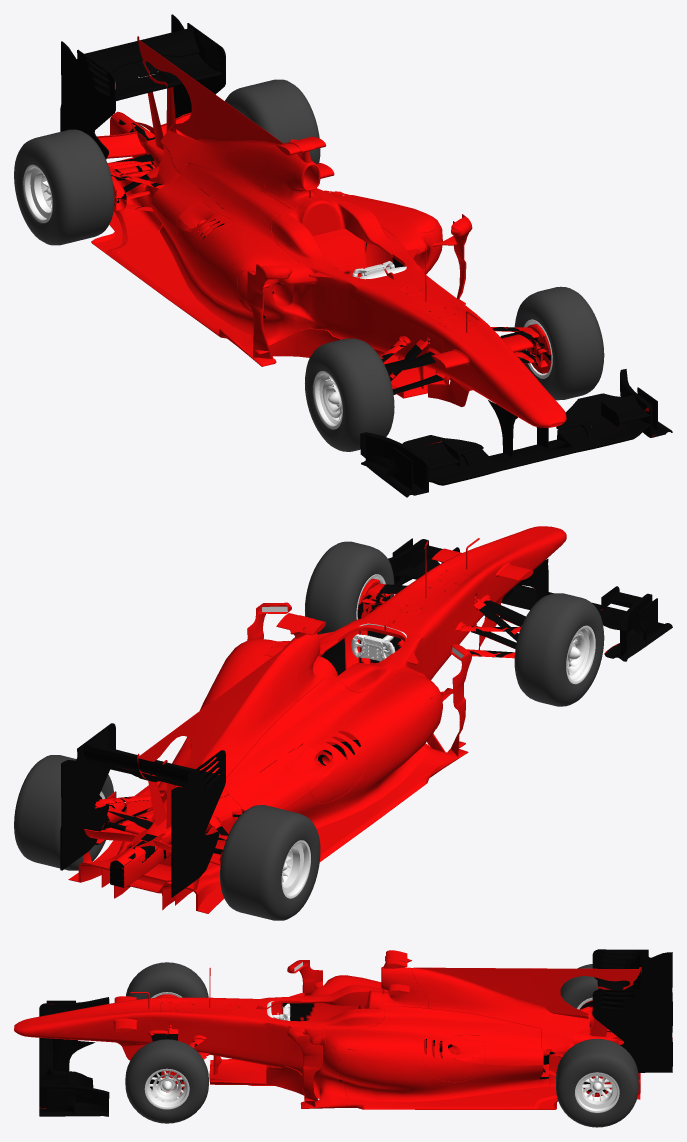
The model's file is ferrari-f1-race-car.fbx.
3 views of the same model, one above another, from view 1: azimuth 30°, elevation 25°; view 2: azimuth 150°, elevation 25°; view 3: azimuth 270°, elevation 25° (orthographic). The views are drawn at different scales.
Visible parts, largest first — view 1: Body, Front_Bumper, Back_Bumper, Treads, Treads.001, Wheel_Plates.001, Generic, Treads.002, Internal; view 2: Body, Back_Bumper, Treads, Treads.001, Front_Bumper, Generic, Wheel_Plates.001, Treads.002, Internal, Steering; view 3: Body, Back_Bumper, Treads.002, Wheel_Plates.001, Front_Bumper, Treads.001, Internal, Generic, Treads.
Part boxes in pixels (left/top/right/bottom): Body: left=91, top=36, right=566, bottom=427; Front_Bumper: left=360, top=369, right=672, bottom=497; Back_Bumper: left=60, top=14, right=225, bottom=159; Treads: left=14, top=129, right=114, bottom=245; Treads.001: left=305, top=338, right=394, bottom=451; Wheel_Plates.001: left=514, top=286, right=604, bottom=400; Generic: left=107, top=154, right=551, bottom=394; Treads.002: left=225, top=79, right=320, bottom=163; Internal: left=110, top=111, right=449, bottom=377; Body: left=68, top=526, right=566, bottom=913; Back_Bumper: left=60, top=723, right=225, bottom=897; Treads: left=220, top=805, right=320, bottom=920; Treads.001: left=514, top=593, right=604, bottom=706; Front_Bumper: left=388, top=538, right=672, bottom=661; Generic: left=94, top=578, right=525, bottom=887; Wheel_Plates.001: left=305, top=541, right=394, bottom=634; Treads.002: left=14, top=755, right=113, bottom=870; Internal: left=110, top=615, right=484, bottom=887; Steering: left=351, top=634, right=395, bottom=661; Body: left=14, top=950, right=641, bottom=1109; Back_Bumper: left=592, top=949, right=672, bottom=1072; Treads.002: left=556, top=1038, right=638, bottom=1127; Wheel_Plates.001: left=125, top=1039, right=208, bottom=1123; Front_Bumper: left=39, top=997, right=109, bottom=1116; Treads.001: left=126, top=962, right=208, bottom=999; Internal: left=248, top=1003, right=623, bottom=1085; Generic: left=150, top=994, right=672, bottom=1096; Treads: left=560, top=964, right=597, bottom=1009.
Size of the model in its own units: 180 by 109 by 514.
7 materials, 2 textured.
